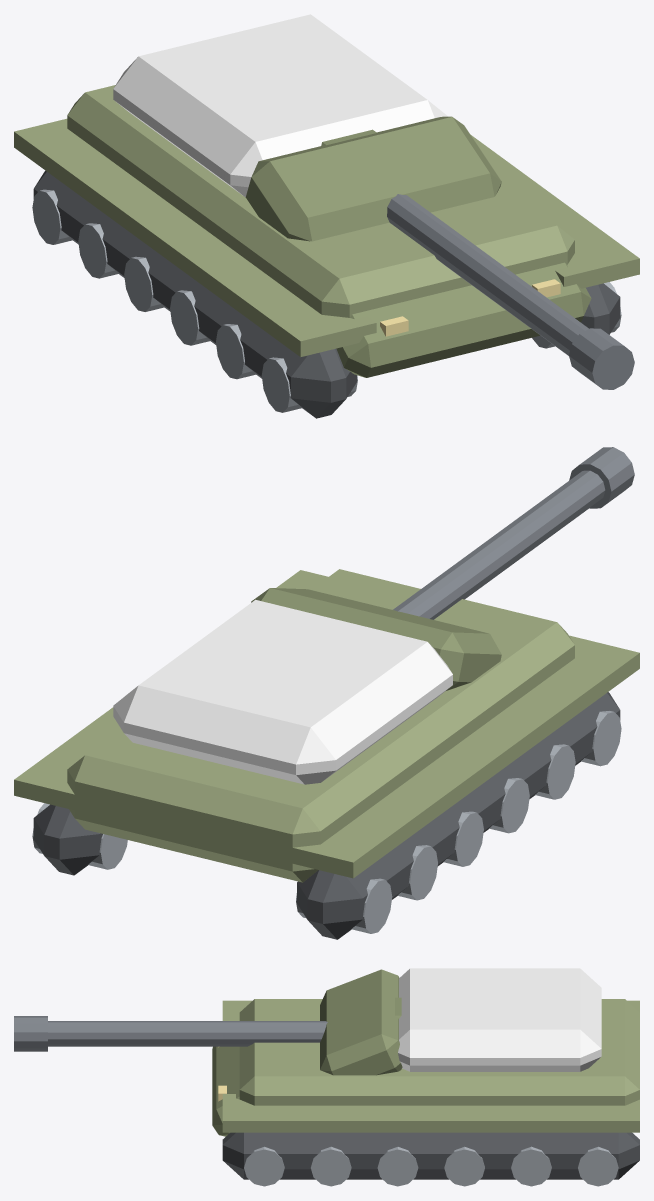
File: tankdestroyer.glb
3 views of the same model, one above another, from view 1: azimuth 30°, elevation 25°; view 2: azimuth 150°, elevation 25°; view 3: azimuth 270°, elevation 25° (orthographic). The views are drawn at different scales.
Visible parts, largest first — view 1: main, turret; view 2: main, turret; view 3: main, turret.
Part boxes in pixels (<box>): main: <box>14,14,639,418</box>; turret: <box>321,129,634,389</box>; main: <box>14,569,639,939</box>; turret: <box>393,447,634,619</box>; main: <box>212,968,639,1186</box>; turret: <box>14,997,401,1051</box>.
Bounding box in the file's own units: 0.67 × 0.34 × 1.47.
